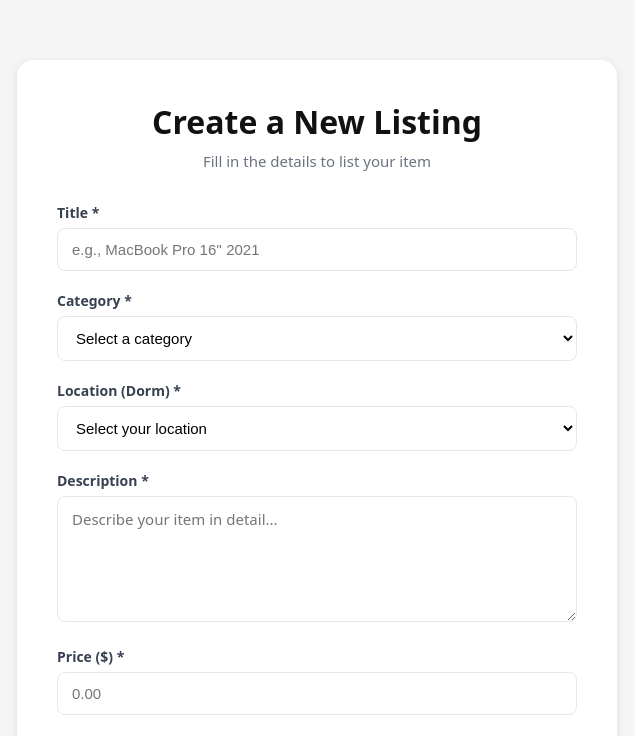
Scenario: CreateListing › Form Validation › shows error when description is empty
Type "Test Title" into the field labelled "Title *" at [317, 250], box [57, 228, 577, 271]
(page scrolled)
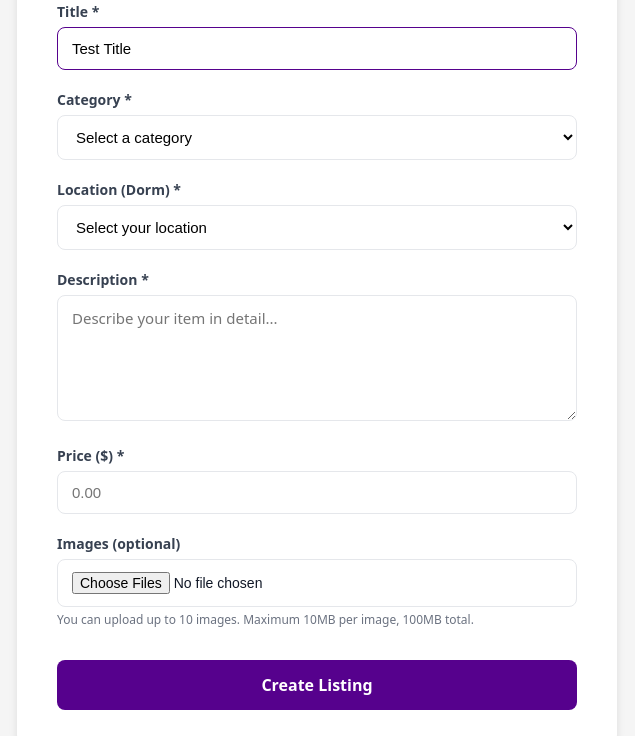
Click the button "Create Listing" at [317, 685], box [57, 660, 577, 710]
(page scrolled)
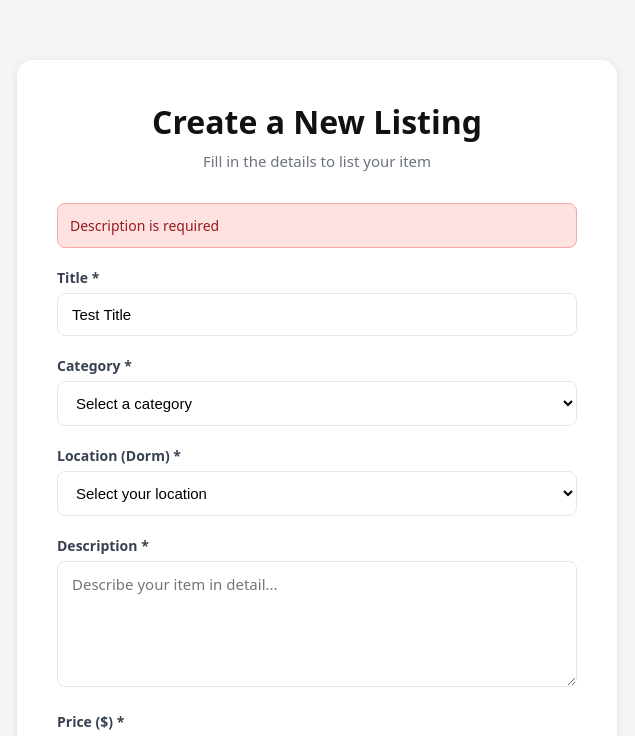
Check: the text "Description is required" is shown, box [57, 203, 577, 248]
